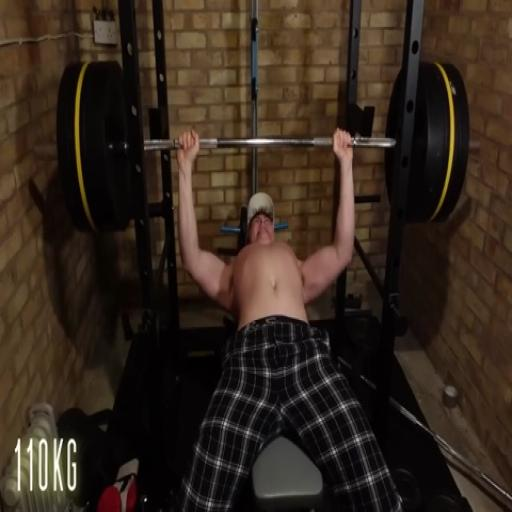exercise: (170, 124, 408, 510)
